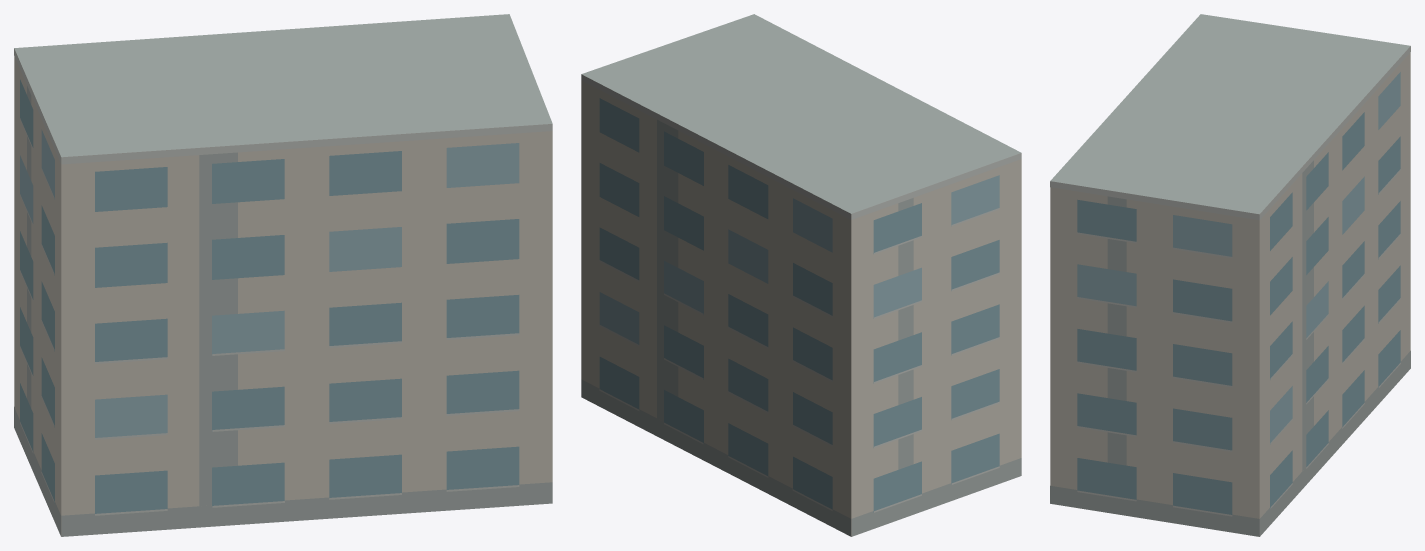
The model's file is survey-upis-32527802.glb.
The picture shows the model from 3 angles, left to right: view 1: azimuth 30°, elevation 25°; view 2: azimuth 150°, elevation 25°; view 3: azimuth 270°, elevation 25°; orthographic projection. The views are drawn at different scales.
Parts seen in each view (by area): view 1: survey-upis-32527802.tmp; view 2: survey-upis-32527802.tmp; view 3: survey-upis-32527802.tmp.
Part boxes in pixels (x1,y1,x2,y2): survey-upis-32527802.tmp: (14,14,552,536); survey-upis-32527802.tmp: (581,14,1021,536); survey-upis-32527802.tmp: (1050,14,1410,536).
Size of the model in its own units: 17.05 by 12.8 by 12.98.
